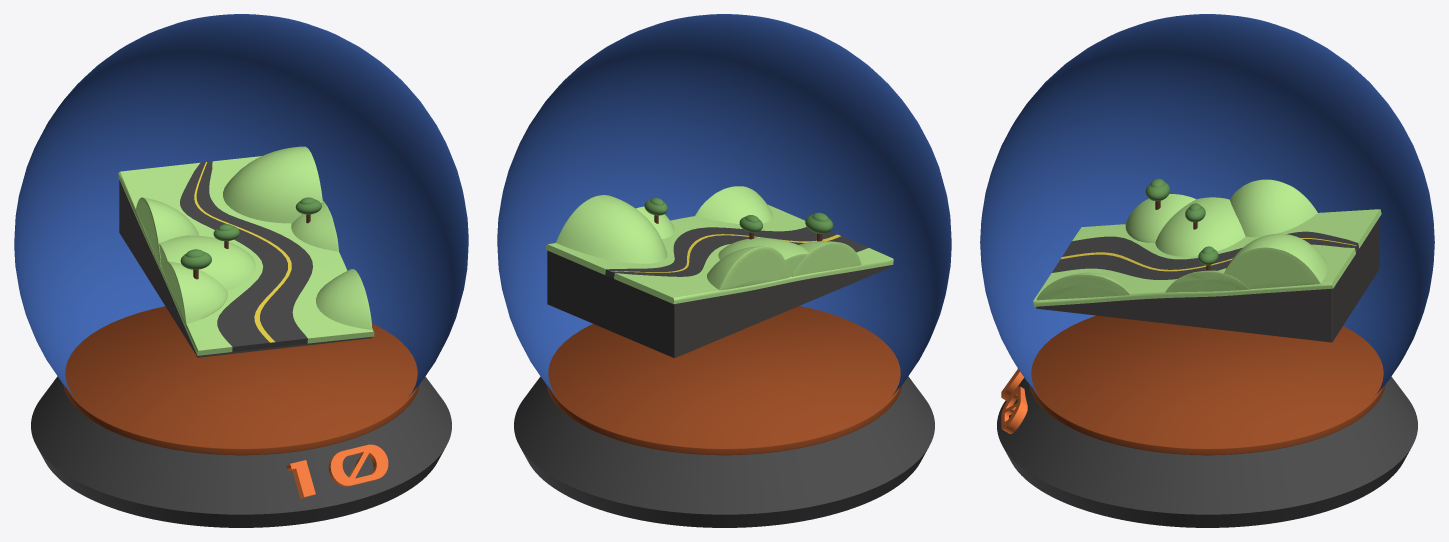
File: Curio_10.glb
3 renders of one model, left to right at view 1: azimuth 30°, elevation 25°; view 2: azimuth 150°, elevation 25°; view 3: azimuth 270°, elevation 25°, orthographic.
Visible parts, largest first — view 1: Sphere.035, Cylinder.033, Sphere.034, Sphere.033, Cylinder.035, Text.015; view 2: Sphere.035, Sphere.034, Sphere.033, Cylinder.033, Cylinder.035; view 3: Sphere.035, Sphere.034, Sphere.033, Cylinder.033, Cylinder.035, Text.015.
Part boxes in pixels (<box>): Sphere.035: <box>14,14,468,397</box>; Cylinder.033: <box>118,146,374,355</box>; Sphere.034: <box>63,306,419,455</box>; Sphere.033: <box>31,376,451,527</box>; Cylinder.035: <box>119,180,372,357</box>; Text.015: <box>286,444,388,498</box>; Sphere.035: <box>497,14,951,397</box>; Sphere.034: <box>546,306,902,455</box>; Sphere.033: <box>514,376,934,527</box>; Cylinder.033: <box>545,186,893,304</box>; Cylinder.035: <box>547,250,891,358</box>; Sphere.035: <box>980,14,1434,395</box>; Sphere.034: <box>1029,315,1385,455</box>; Sphere.033: <box>997,376,1417,527</box>; Cylinder.033: <box>1033,178,1381,306</box>; Cylinder.035: <box>1036,217,1379,342</box>; Text.015: <box>1001,368,1027,433</box>.
Bounding box in the file's own units: 4.66 × 4.62 × 4.66.
